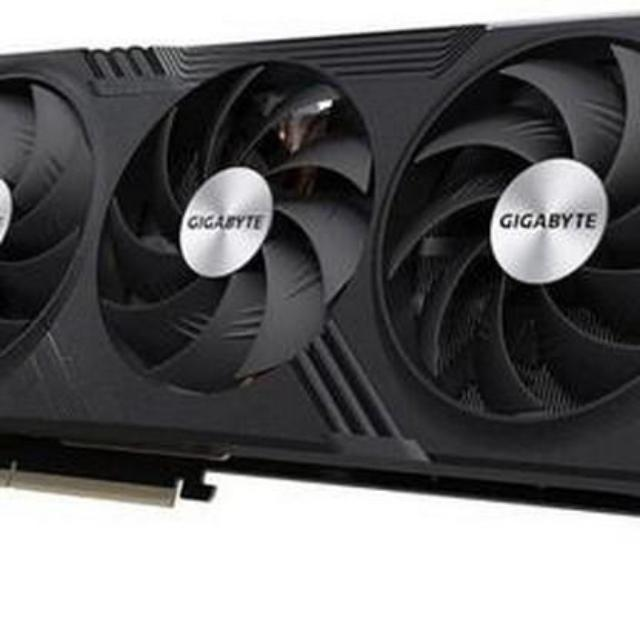GPU: (0, 30, 640, 508)
